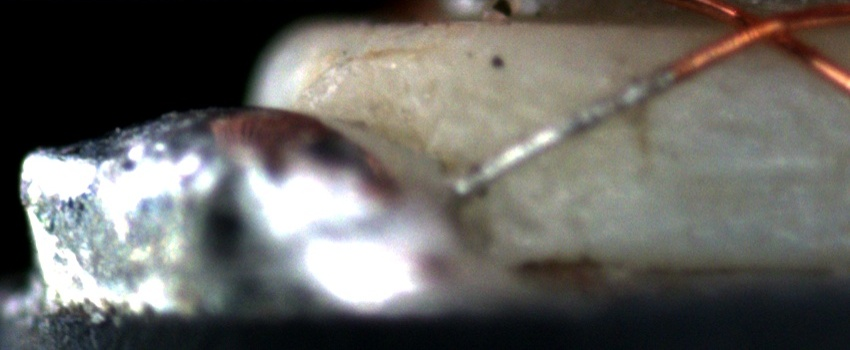CL: (721, 7, 803, 56)
DL: (611, 140, 850, 183)
TS: (460, 64, 675, 197)
